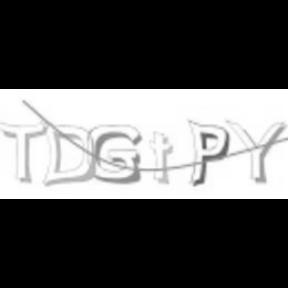D: (45, 122, 97, 186)
G: (86, 123, 144, 187)
P: (184, 118, 230, 188)
T: (0, 120, 50, 184)
Y: (224, 119, 284, 184)
t: (148, 130, 174, 186)
